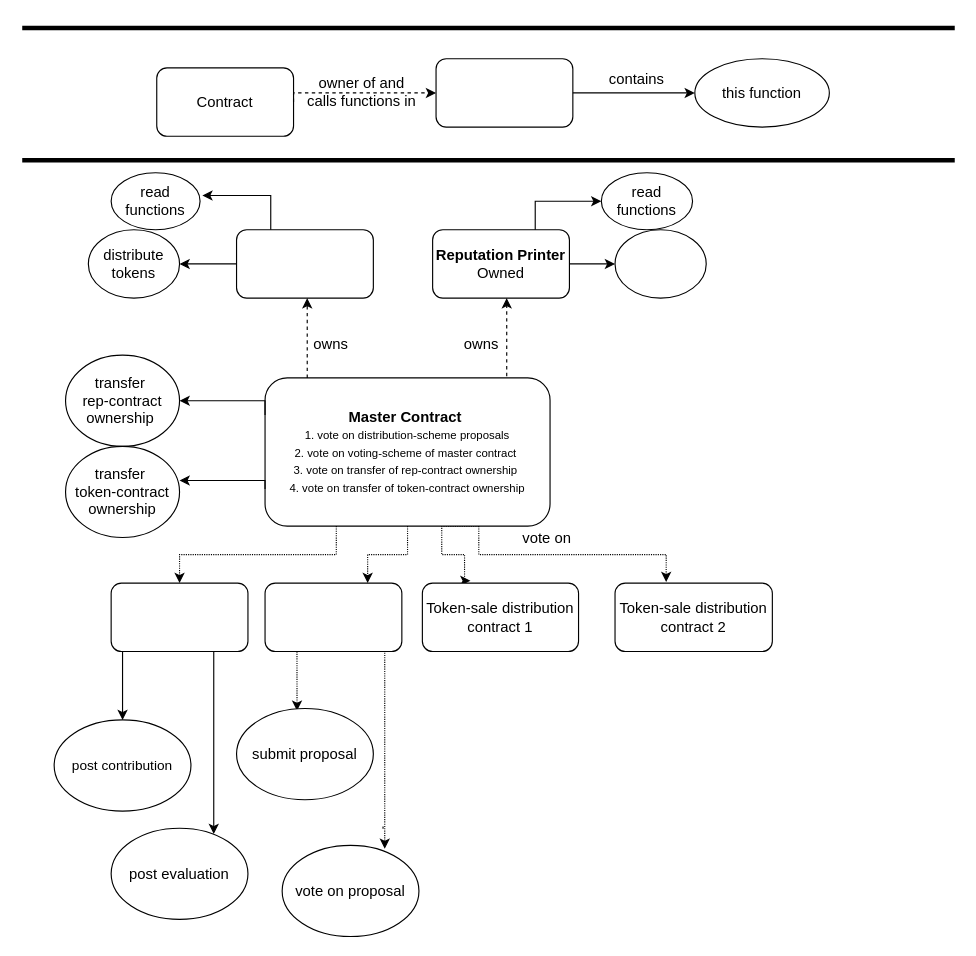
This 976x956 diagram has some shape labels left out. Here are the shapes that lost their labels. From the top down, the box of each, then its label:
(435, 58, 573, 127): another contract
(235, 229, 373, 298): Token Printer Owned
(614, 229, 706, 298): distribute reputation
(110, 582, 248, 652): Contribution-type distribution contract
(264, 582, 402, 652): Proposal-type distribution contract
